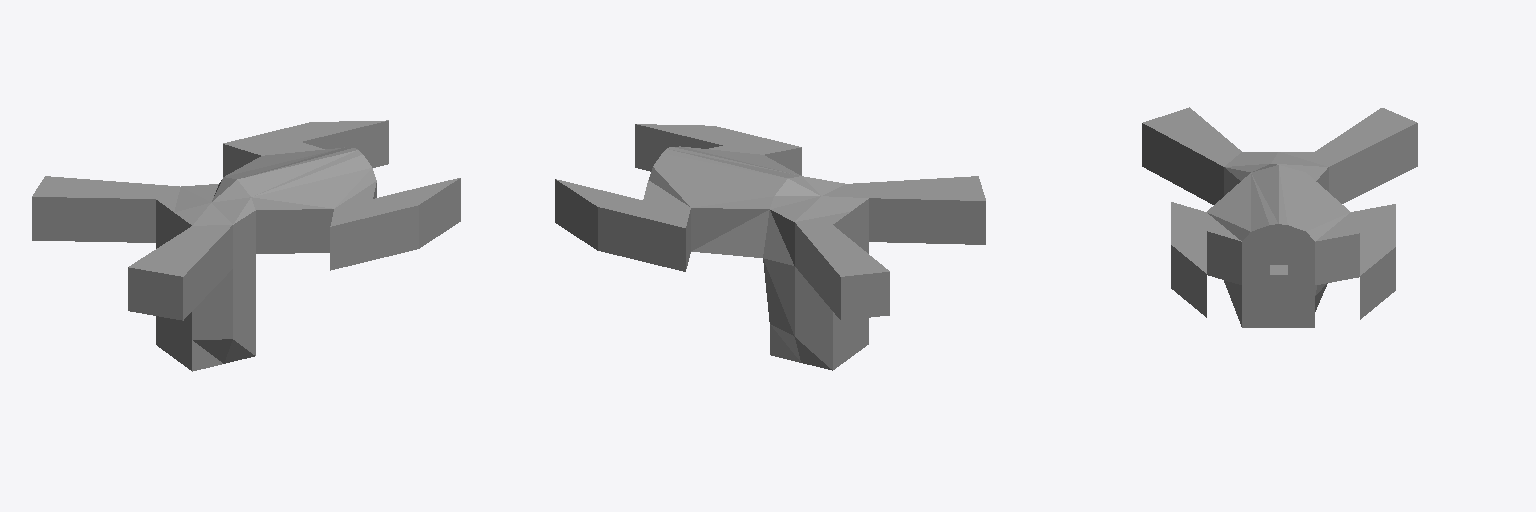
The model's file is torre2c2.obj.
3 views of the same model, side by side, from view 1: azimuth 30°, elevation 25°; view 2: azimuth 150°, elevation 25°; view 3: azimuth 270°, elevation 25° (orthographic).
Parts seen in each view (by area): view 1: Cube; view 2: Cube; view 3: Cube.
Part boxes in pixels (x1,y1,x2,y2): Cube: (32,120,460,371); Cube: (555,124,985,370); Cube: (1142,107,1417,327).
Size of the model in its own units: 5.48 by 2.47 by 3.78.